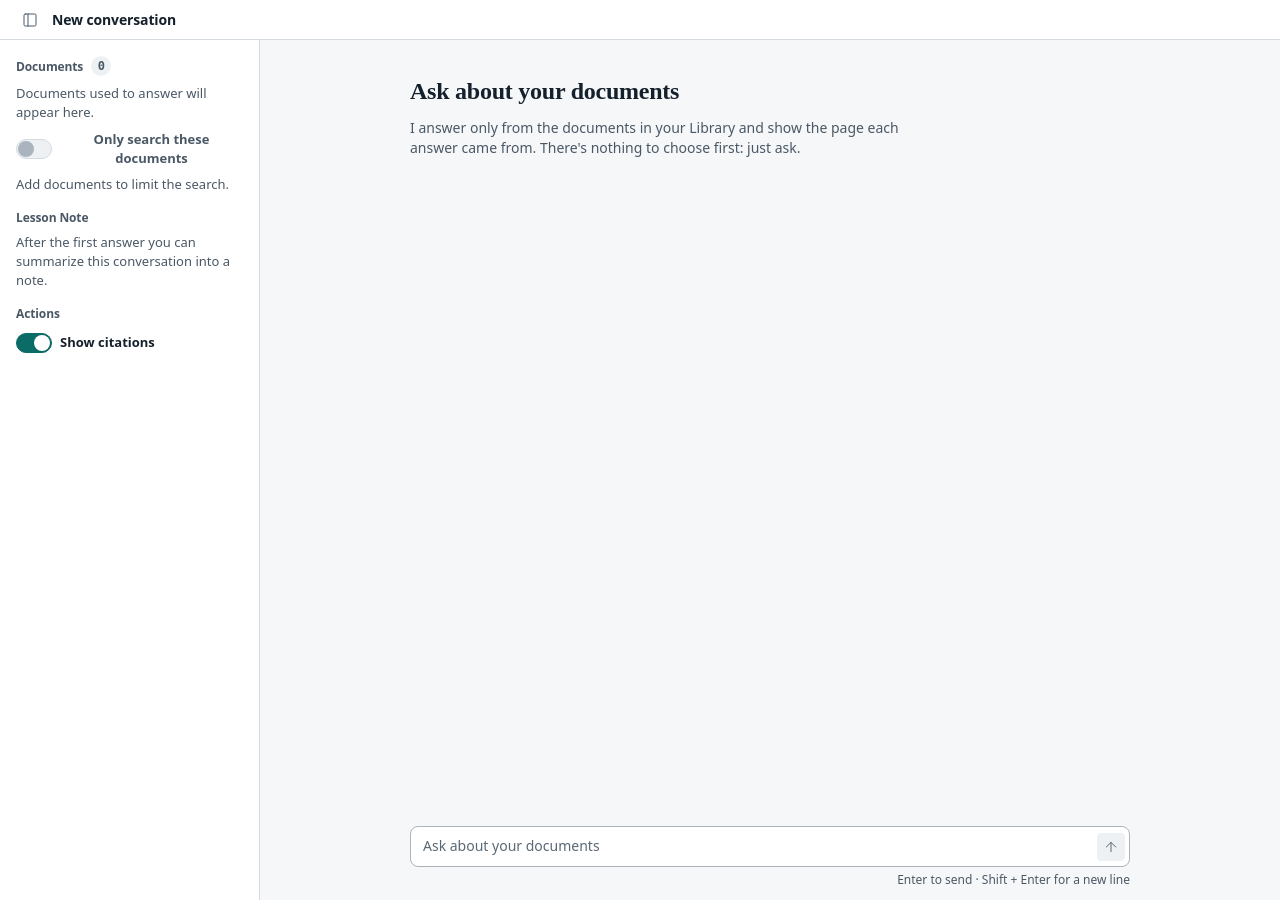
Test: ChatPage › numbers each citation with the marker the answer uses for it
Type "What is attention?" into the text box named "question".
click(750, 846); type("What is attention?")  # box [411,827,1089,866]
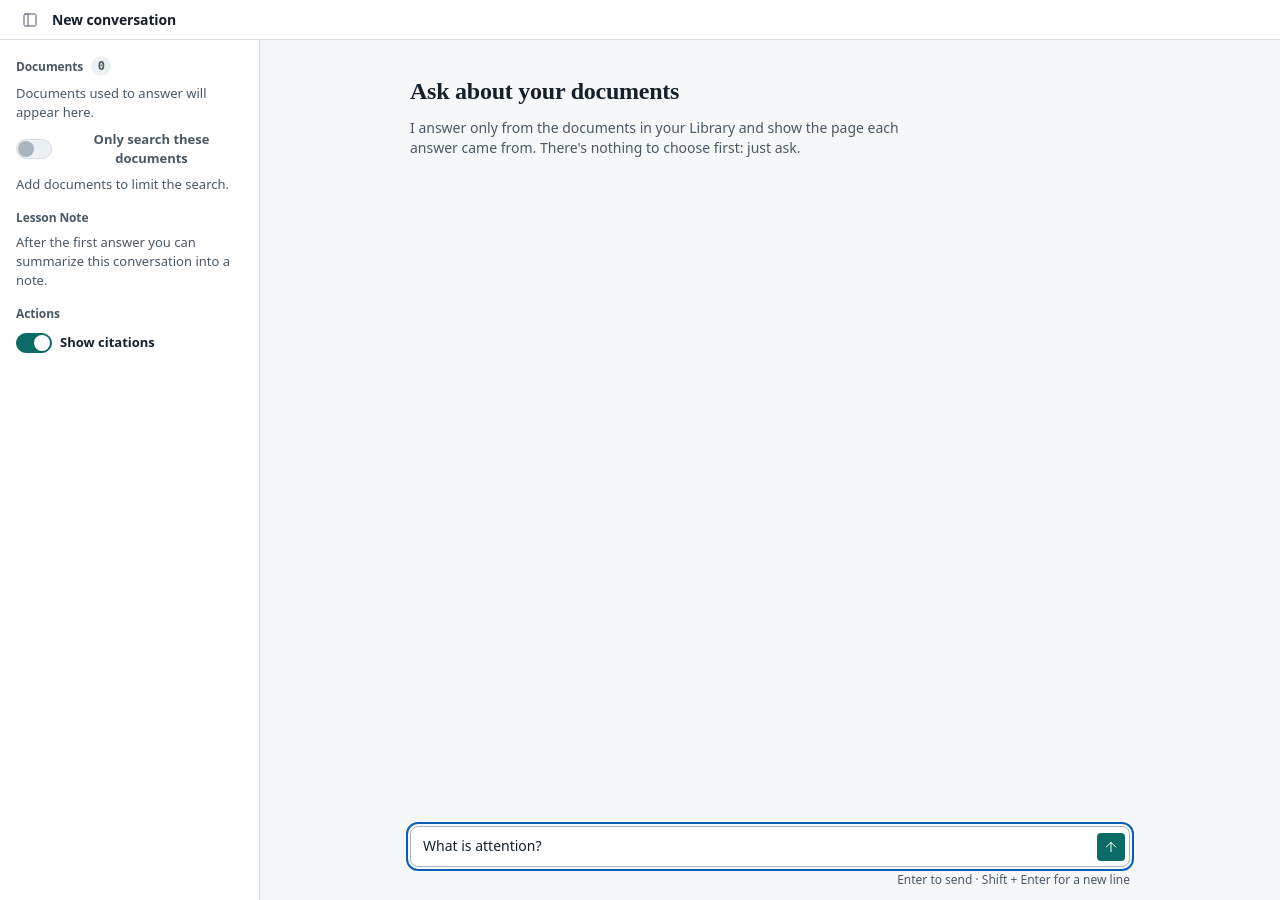
Click the button named "ask".
click(1111, 847)  # box [1097,833,1125,861]
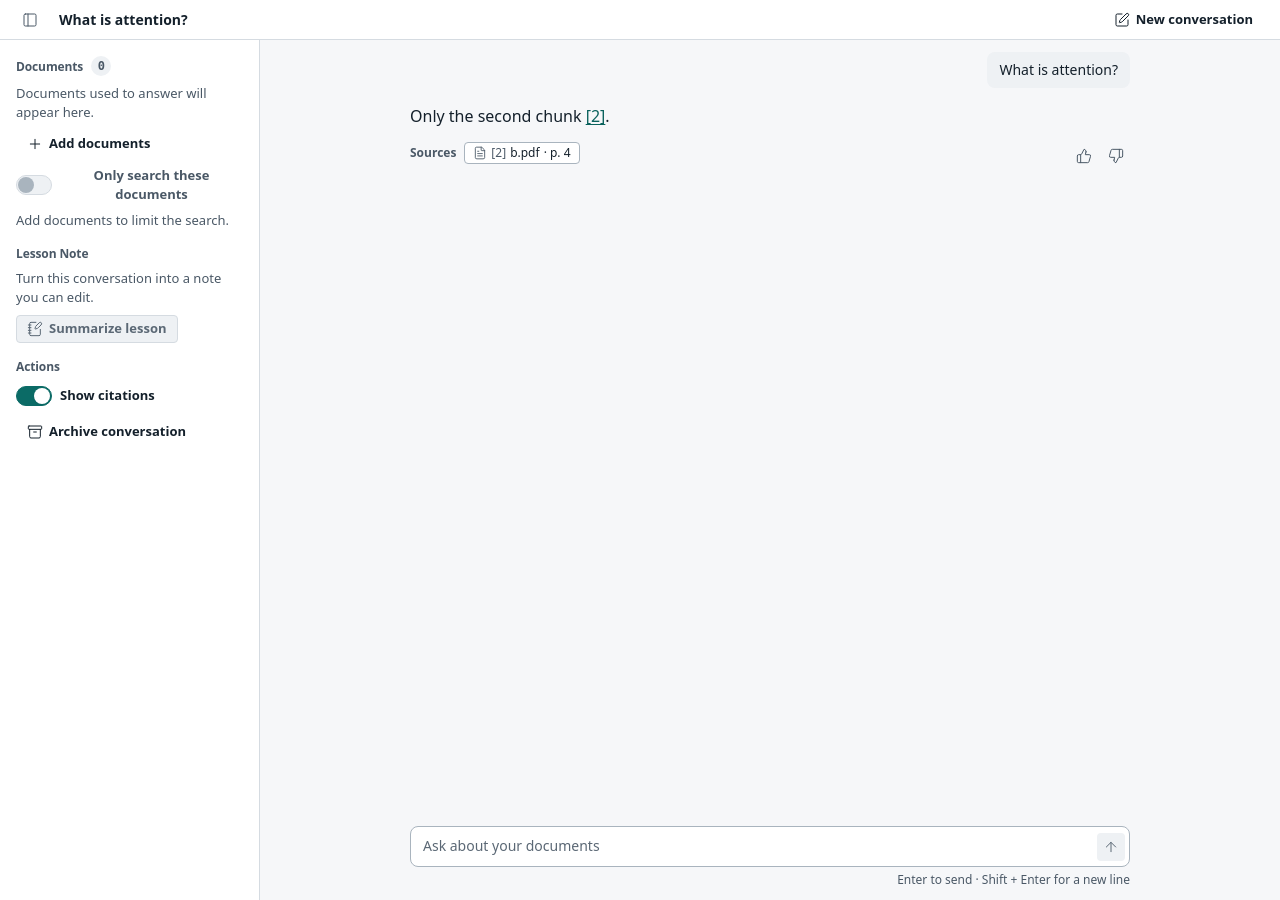
Check: the list item reads "[2] b.pdf · p. 4", box [464,142,580,164]
